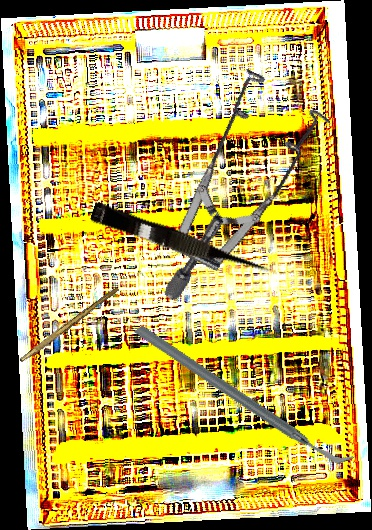Chopper: (131, 266, 357, 523)
Micro Scissor: (88, 201, 273, 286)
Scalpel Handle: (19, 284, 120, 366)
Speculum: (89, 45, 371, 304)
